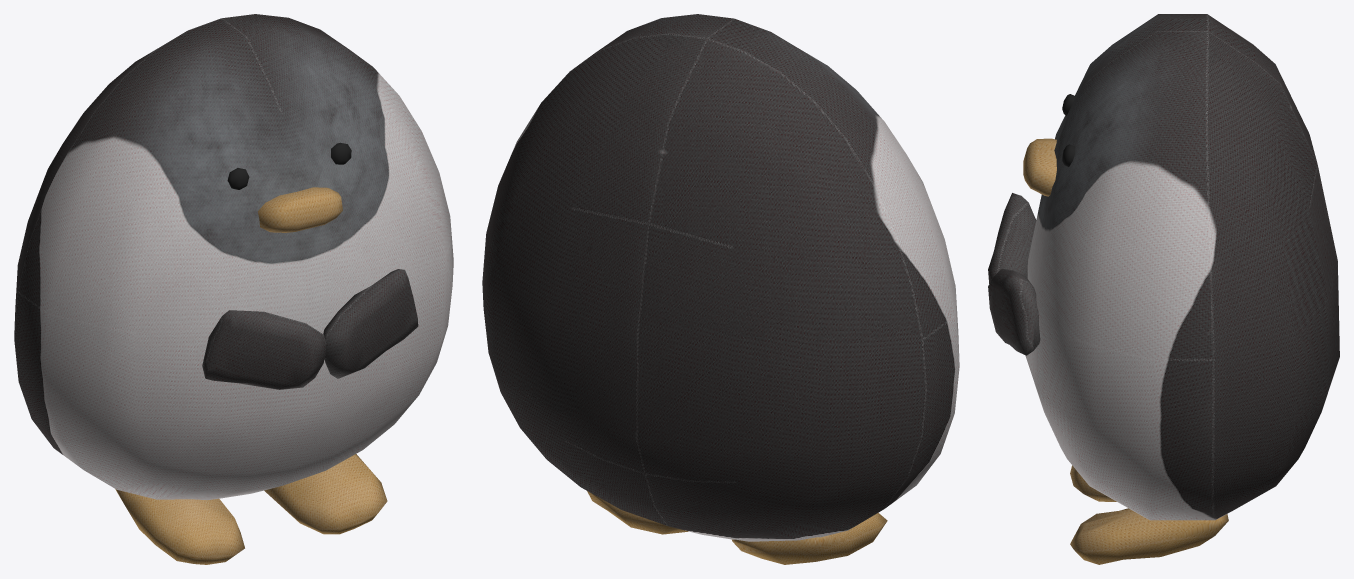
The model's file is Plushie_Penguin.FBX.
The picture shows the model from 3 angles, left to right: view 1: azimuth 30°, elevation 25°; view 2: azimuth 150°, elevation 25°; view 3: azimuth 270°, elevation 25°; orthographic projection. The views are drawn at different scales.
Visible parts, largest first — view 1: Plushie_Penguin; view 2: Plushie_Penguin; view 3: Plushie_Penguin.
Part boxes in pixels (<box>): Plushie_Penguin: <box>14,14,453,564</box>; Plushie_Penguin: <box>482,14,959,564</box>; Plushie_Penguin: <box>988,14,1339,564</box>.
Bounding box in the file's own units: 17.6 × 20.09 × 12.96.
